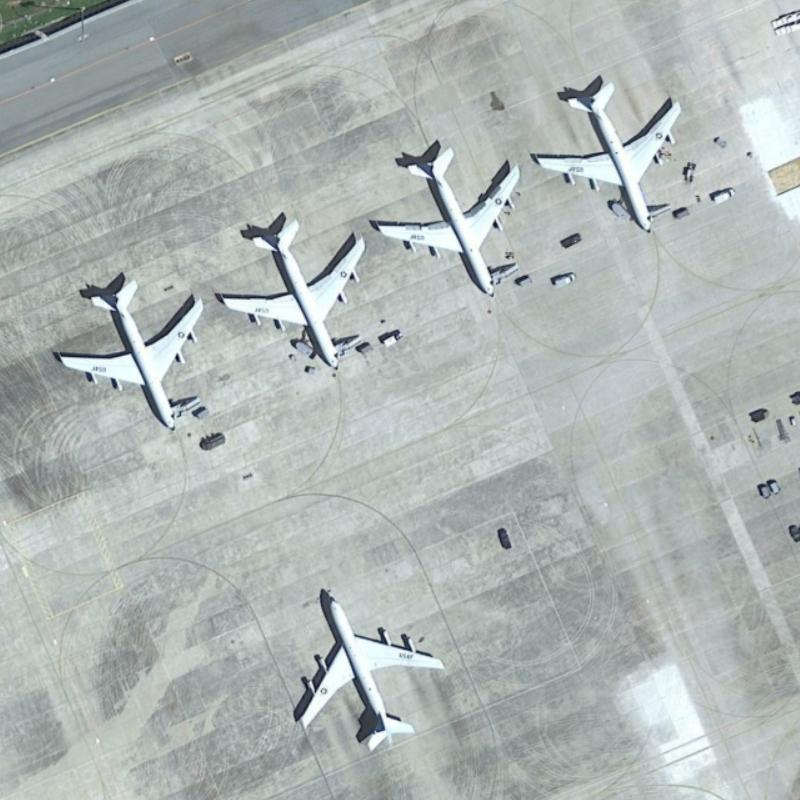A11: (289, 586, 449, 759), (214, 210, 368, 377), (49, 271, 207, 433), (528, 77, 685, 237), (371, 143, 525, 303)
